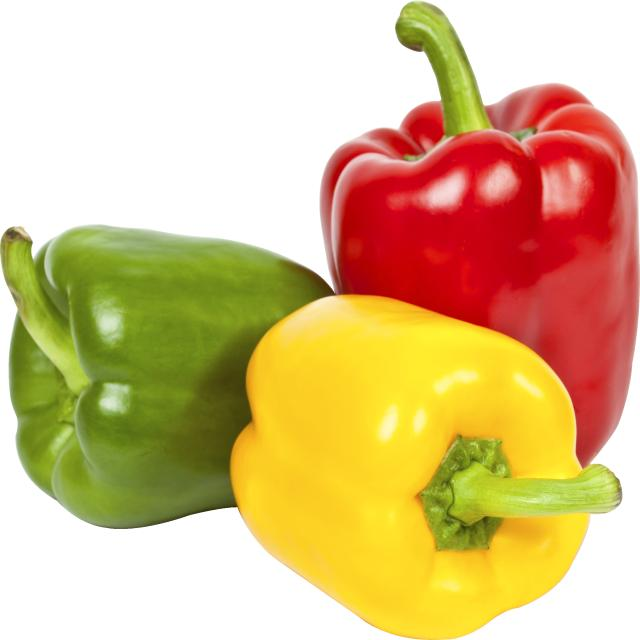bell_pepper: (324, 6, 636, 491), (233, 294, 620, 638), (3, 209, 333, 528)
